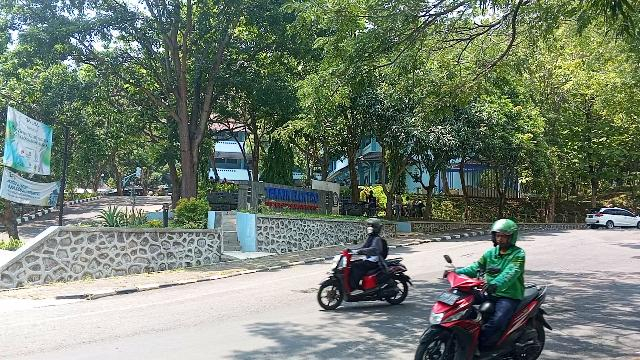helm: (492, 220, 519, 248), (368, 220, 385, 236)
motor: (415, 274, 553, 360), (319, 250, 413, 310)
